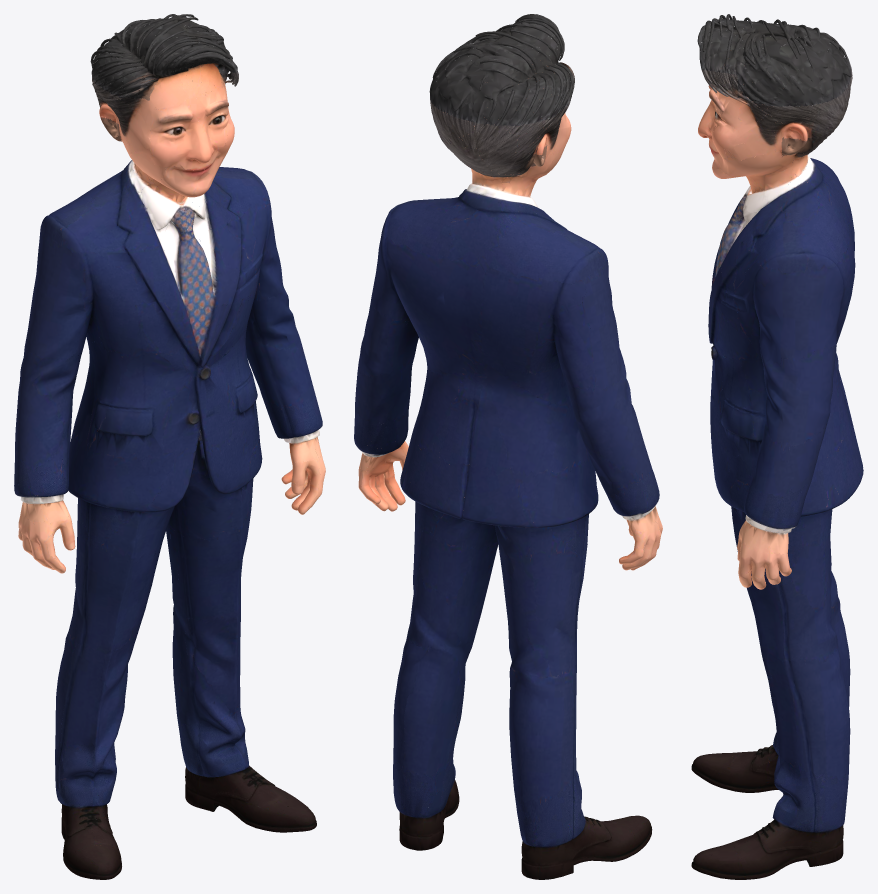
Rendered from 교장선생님-출발.glb.
3 views of the same model, side by side, from view 1: azimuth 30°, elevation 25°; view 2: azimuth 150°, elevation 25°; view 3: azimuth 270°, elevation 25° (orthographic).
Visible parts, largest first — view 1: 교장선생님-출발-Mesh_0; view 2: 교장선생님-출발-Mesh_0; view 3: 교장선생님-출발-Mesh_0.
Part boxes in pixels (x1,y1,x2,y2): 교장선생님-출발-Mesh_0: (14,14,325,879); 교장선생님-출발-Mesh_0: (354,14,662,879); 교장선생님-출발-Mesh_0: (691,14,863,879).
Size of the model in its own units: 0.737 by 1.9 by 0.3687.
3 materials, 1 textured.
